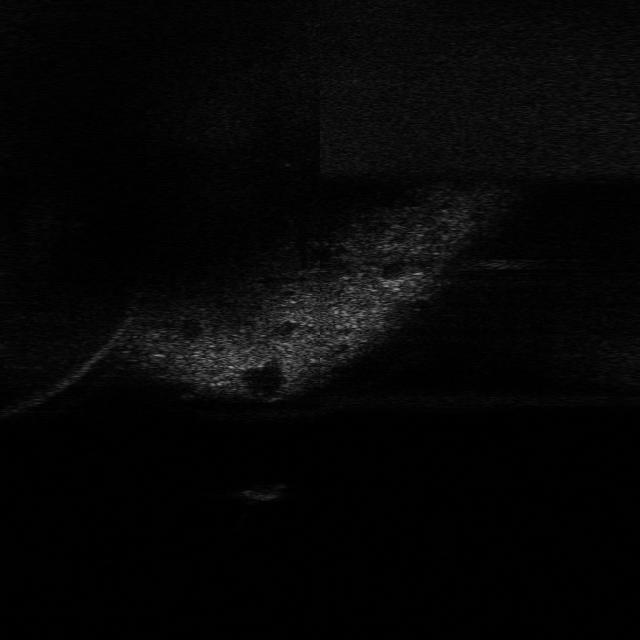cube: (231, 480, 287, 503)
